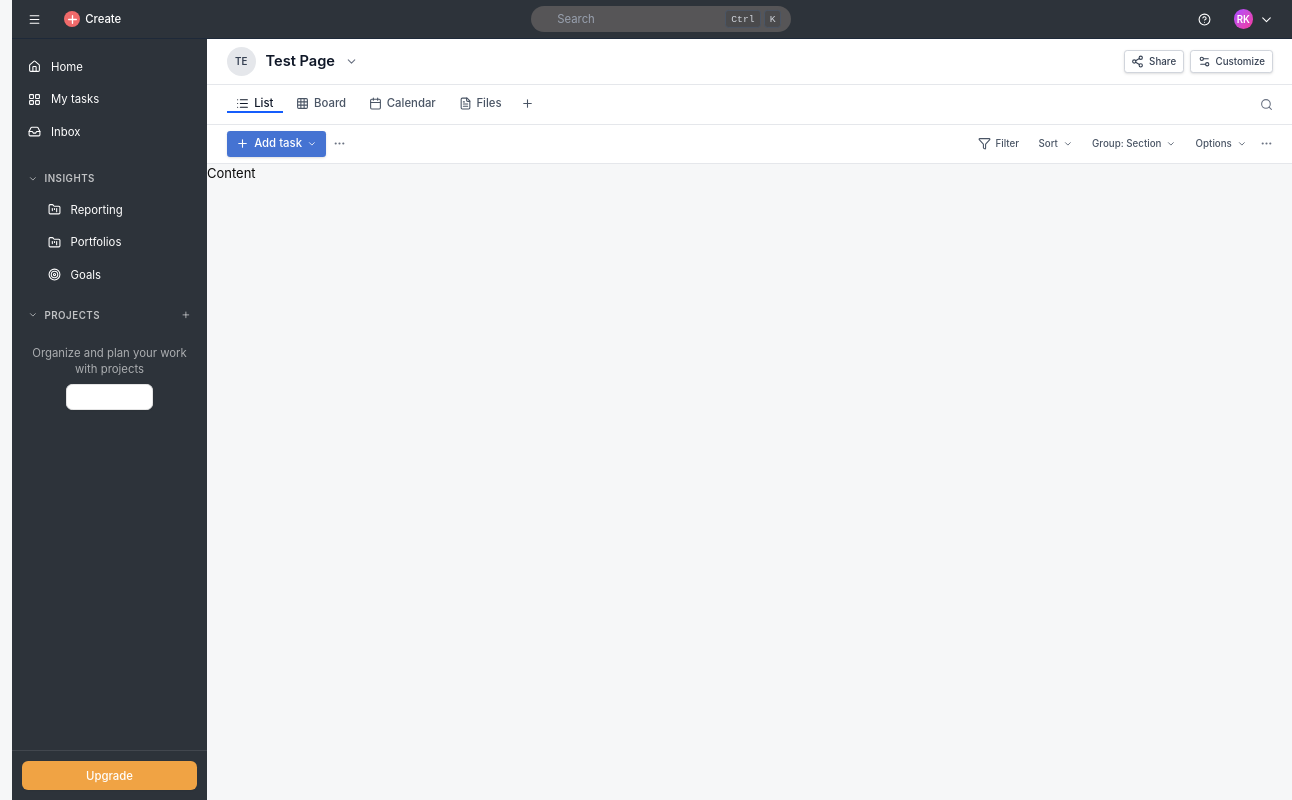
Scenario: Navigation Integration Tests › should toggle sidebar visibility when hamburger menu is clicked
Expected: the element with test id "asana-sidebar" is shown, [12, 39, 207, 799]
Note: Click hamburger menu
Click the button with test id "toggle-sidebar" at [35, 19], box [22, 6, 48, 32]
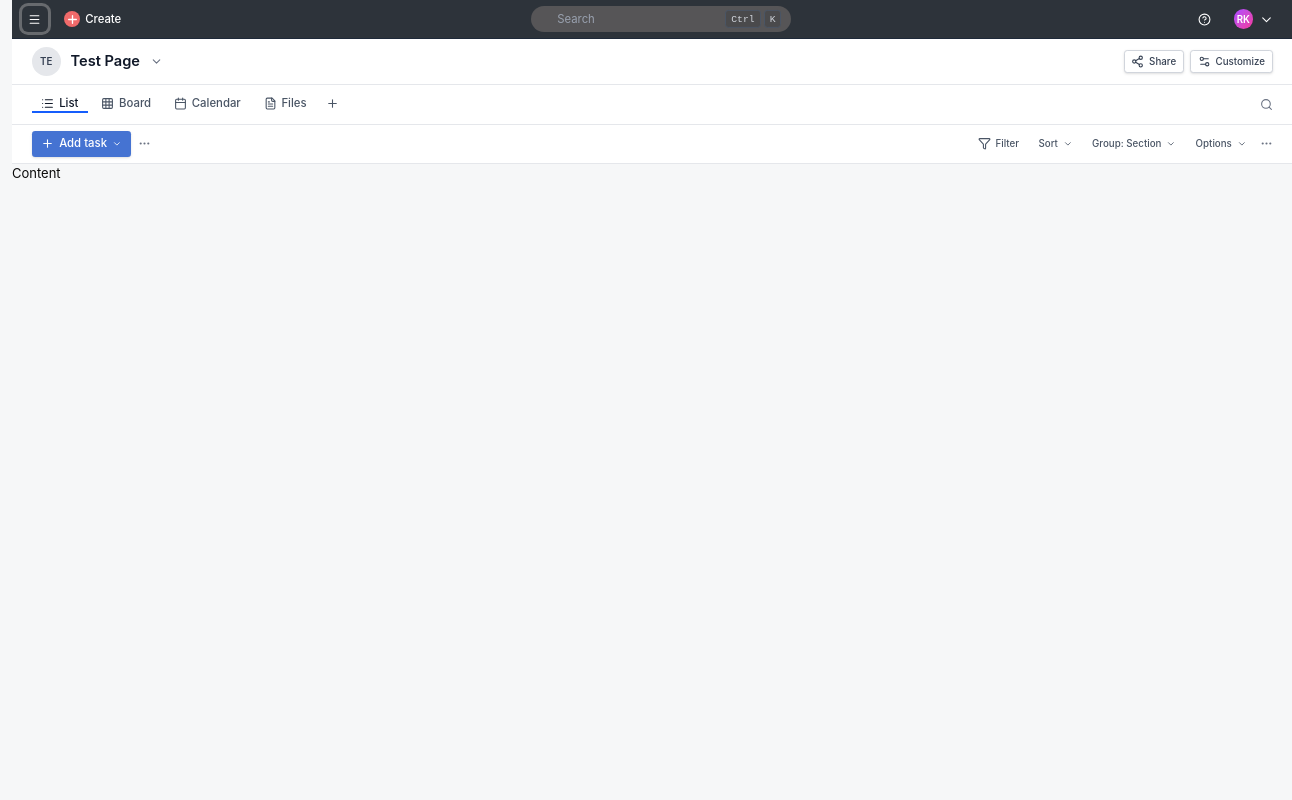
Result: the element with test id "asana-sidebar" is gone
Note: Click again to show
Click the button with test id "toggle-sidebar" at [35, 19], box [22, 6, 48, 32]
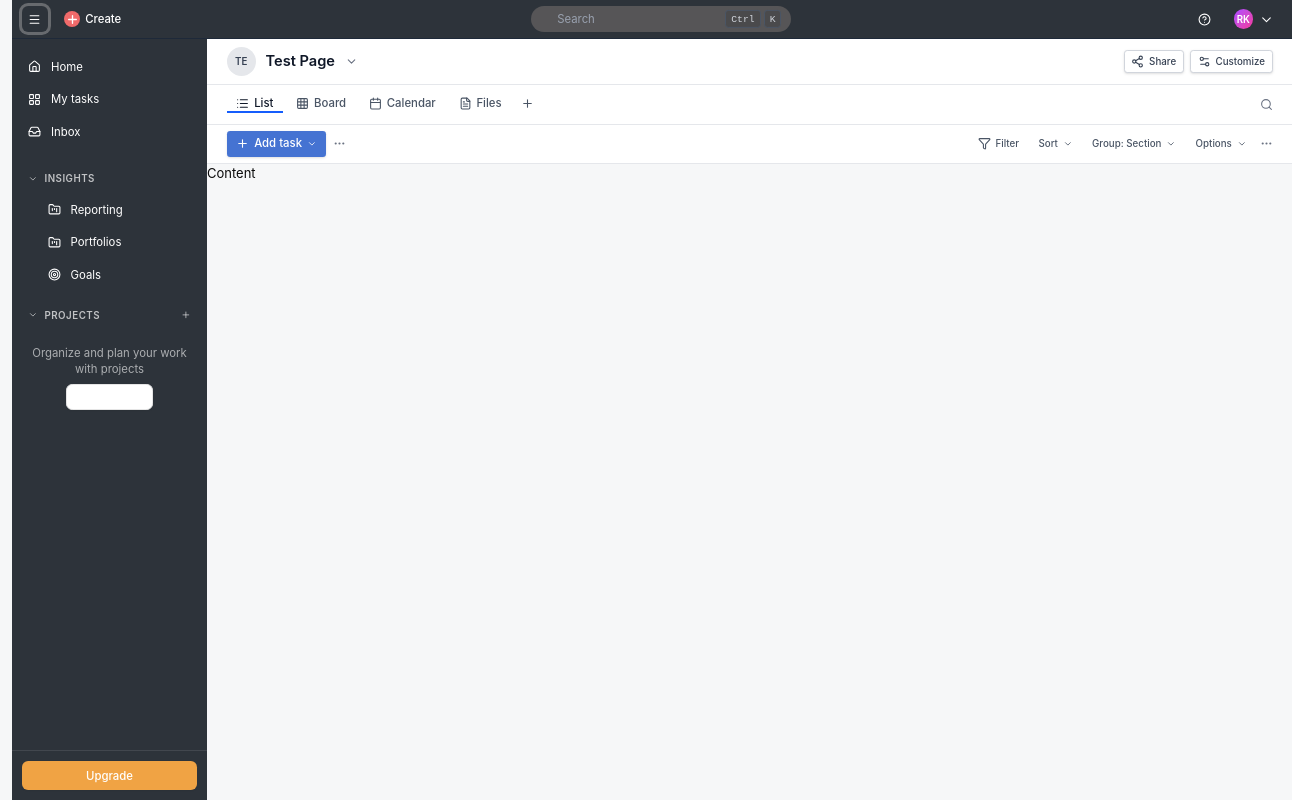
Result: the element with test id "asana-sidebar" is shown at [12, 39, 207, 799]
